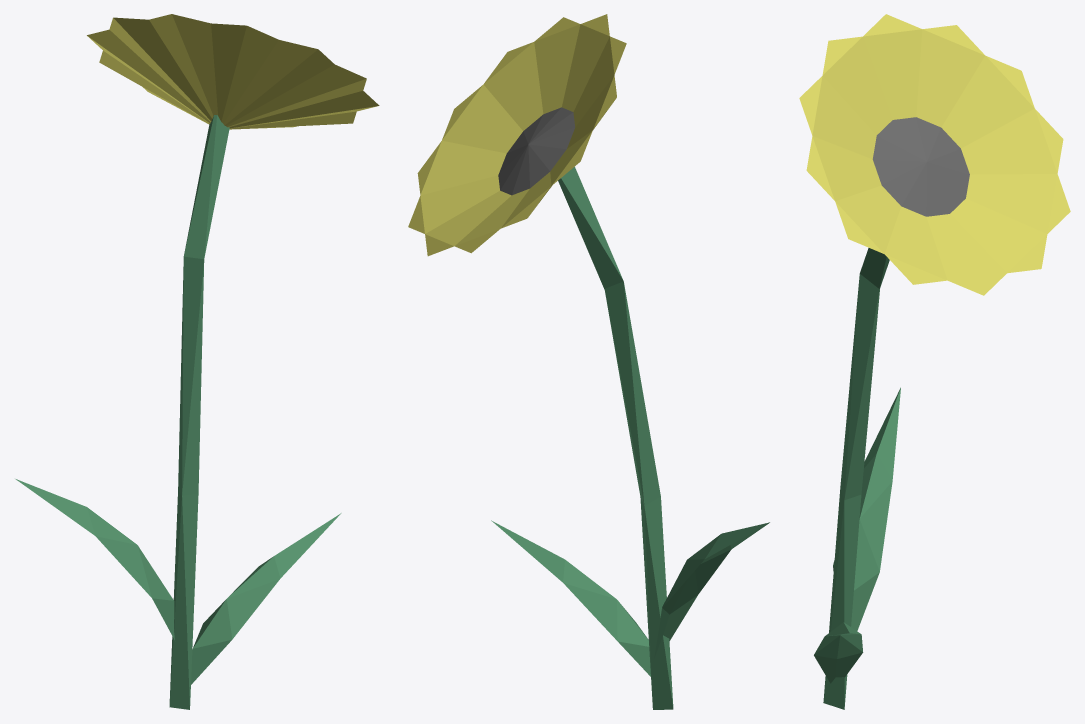
Rendered from Prop_Flower_Sunflower.glb.
The picture shows the model from 3 angles, left to right: view 1: azimuth 30°, elevation 25°; view 2: azimuth 150°, elevation 25°; view 3: azimuth 270°, elevation 25°; orthographic projection. The views are drawn at different scales.
Parts seen in each view (by area): view 1: Prop_Flower_Sunflower_Merged; view 2: Prop_Flower_Sunflower_Merged; view 3: Prop_Flower_Sunflower_Merged.
Part boxes in pixels (<box>): Prop_Flower_Sunflower_Merged: <box>15,14,379,709</box>; Prop_Flower_Sunflower_Merged: <box>408,14,769,709</box>; Prop_Flower_Sunflower_Merged: <box>799,14,1070,709</box>.
Size of the model in its own units: 0.4159 by 0.778 by 0.2738.
